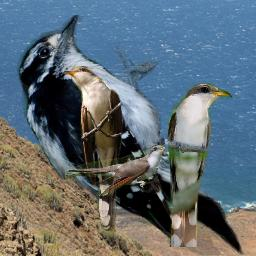Cuckoo: (166, 82, 233, 247), (62, 66, 123, 231), (65, 145, 165, 196)
Woodpecker: (14, 15, 247, 255)
